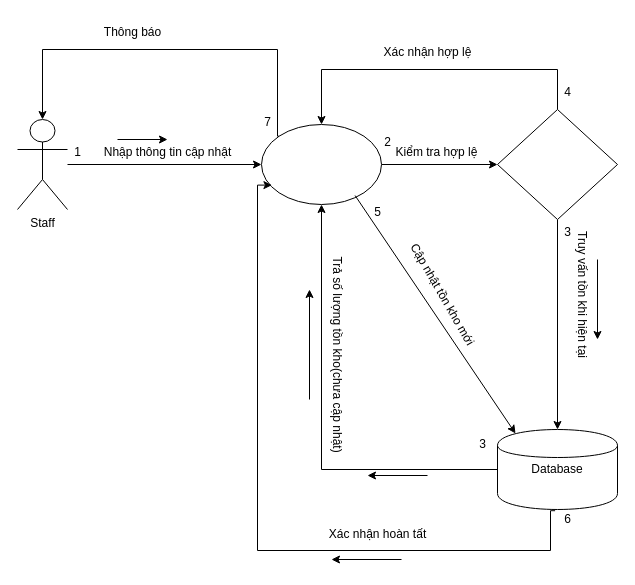
The diagram is 635 pixels wide and 585 high, and some of its shapes have lost their labels. Here are the shapes that lost their labels. From the top down, the centre of each, then its label:
At point (321, 164): "System".
At point (557, 164): "InventoryService".
